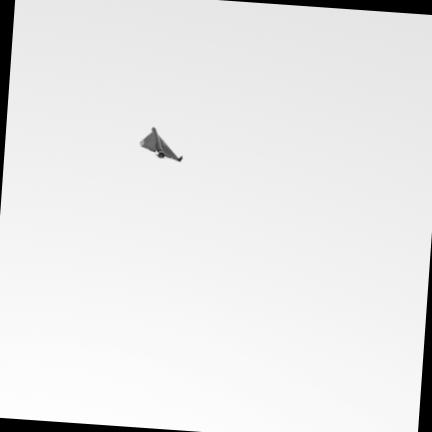Shahed: (140, 127, 182, 161)
